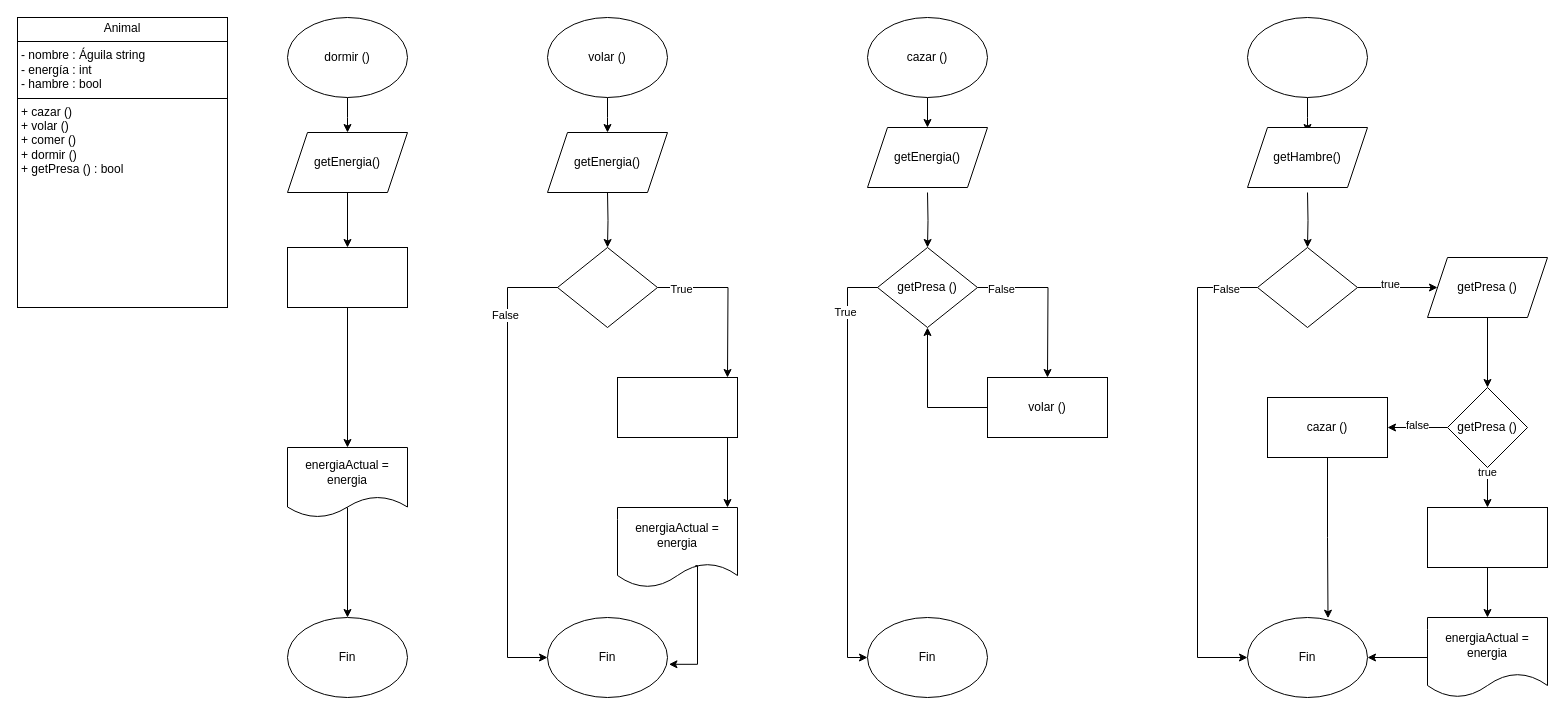
Some shapes in this 1565 by 715 pixel diagram are drawn without their labels. Here are the shapes that lost their labels. From the top down, the centre of each, then its label:
At point 1307,57: "comer ()".
At point 347,277: "energia = energia + 100".
At point 607,287: "energia > 10".
At point 1307,287: "hambre".
At point 677,407: "energia = energia - 10".
At point 1487,537: "energia = energia + 50".
